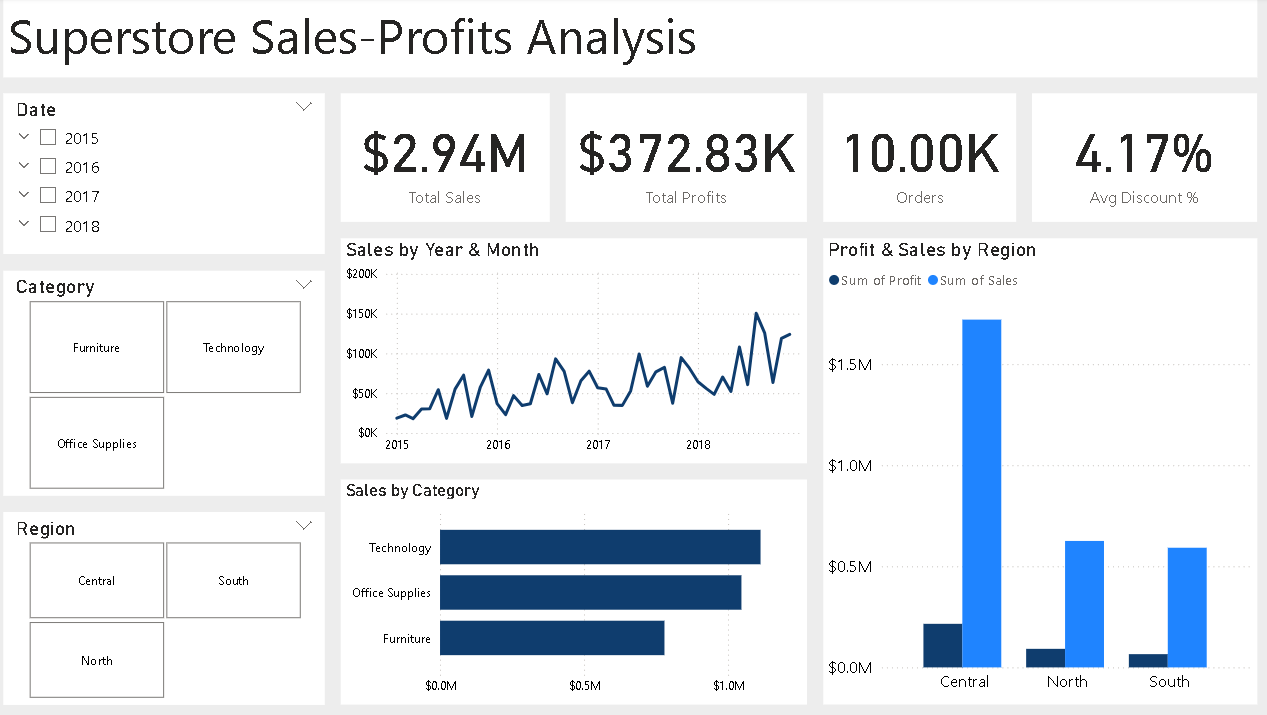

The page's visual inventory and layout, read from the dashboard file:
{"tool":"powerbi","page":{"name":"Summary","canvas":[1280,720],"ordinal":0},"visuals":[{"type":"textbox","box":[16,0,1248,80],"z":0},{"type":"card","fields":{"Values":["Avg(superstore sample - eu superstore 2(orders)2.Discount)","superstore sample - eu superstore 2(orders)2.Avg Discount %"]},"box":[1040,96,224,128],"z":1000},{"type":"card","fields":{"Values":["CountNonNull(superstore sample - eu superstore 2(orders)2.Order ID)"]},"box":[832,96,192,128],"z":2000},{"type":"card","fields":{"Values":["Sum(superstore sample - eu superstore 2(orders)2.Profit)"]},"box":[576,96,240,128],"z":3000},{"type":"card","fields":{"Values":["Sum(superstore sample - eu superstore 2(orders)2.Sales)"]},"box":[352,96,208,128],"z":4000},{"type":"slicer","fields":{"Values":["superstore sample - eu superstore 2(orders)2.Order Date.Variation.Date Hierarchy.Year","superstore sample - eu superstore 2(orders)2.Order Date.Variation.Date Hierarchy.Month"]},"box":[16,96,320,160],"z":5000},{"type":"slicer","fields":{"Values":["superstore sample - eu superstore 2(orders)2.Category"]},"box":[16,272,320,224],"z":6000},{"type":"slicer","fields":{"Values":["superstore sample - eu superstore 2(orders)2.Region"]},"box":[16,512,320,192],"z":7000},{"type":"lineChart","title":"Sales by Year  & Month","fields":{"Category":["superstore sample - eu superstore 2(orders)2.Order Date.Variation.Date Hierarchy.Year","superstore sample - eu superstore 2(orders)2.Order Date.Variation.Date Hierarchy.Month"],"Y":["Sum(superstore sample - eu superstore 2(orders)2.Sales)"]},"box":[352,240,464,224],"z":8000},{"type":"barChart","title":"Sales by Category","fields":{"Category":["superstore sample - eu superstore 2(orders)2.Category"],"Y":["Sum(superstore sample - eu superstore 2(orders)2.Sales)"]},"box":[352,480,464,224],"z":9000},{"type":"clusteredColumnChart","title":"Profit  & Sales by Region","fields":{"Y":["Sum(superstore sample - eu superstore 2(orders)2.Profit)","Sum(superstore sample - eu superstore 2(orders)2.Sales)"],"Category":["superstore sample - eu superstore 2(orders)2.Region"]},"box":[832,240,432,464],"z":10000}]}

Visuals, with their boxes in screenshot pixels (x1, y1, x2, y2), scaled from the page's 1280x720 canvas onto the 1267x715 screenshot:
textbox: 16 0 1251 79
card - Avg(superstore sample - eu superstore 2(orders)2.Discount) x superstore sample - eu superstore 2(orders)2.Avg Discount %: 1029 95 1251 222
card - CountNonNull(superstore sample - eu superstore 2(orders)2.Order ID): 824 95 1014 222
card - Sum(superstore sample - eu superstore 2(orders)2.Profit): 570 95 808 222
card - Sum(superstore sample - eu superstore 2(orders)2.Sales): 348 95 554 222
slicer - superstore sample - eu superstore 2(orders)2.Order Date.Variation.Date Hierarchy.Year x superstore sample - eu superstore 2(orders)2.Order Date.Variation.Date Hierarchy.Month: 16 95 333 254
slicer - superstore sample - eu superstore 2(orders)2.Category: 16 270 333 493
slicer - superstore sample - eu superstore 2(orders)2.Region: 16 508 333 699
"Sales by Year  & Month" lineChart: 348 238 808 461
"Sales by Category" barChart: 348 477 808 699
"Profit  & Sales by Region" clusteredColumnChart: 824 238 1251 699
